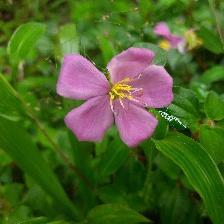malabar melastome: (60, 42, 176, 150)
